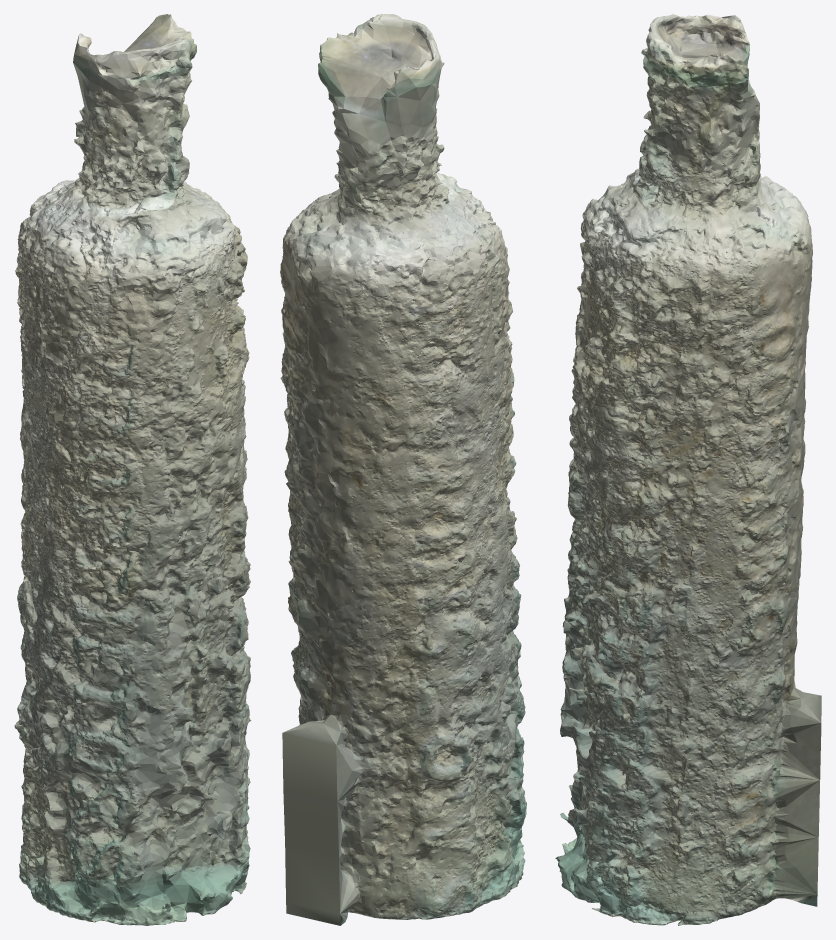
3 renders of one model, left to right at view 1: azimuth 30°, elevation 25°; view 2: azimuth 150°, elevation 25°; view 3: azimuth 270°, elevation 25°, orthographic. The views are drawn at different scales.
Visible parts, largest first — view 1: model; view 2: model; view 3: model.
Part boxes in pixels (x1,y1,x2,y2): model: [14, 14, 251, 925]; model: [280, 14, 526, 925]; model: [555, 14, 821, 925].
Bounding box in the file's own units: 0.0749 × 0.3 × 0.0842.
Materials: 2 (1 with a texture image).
